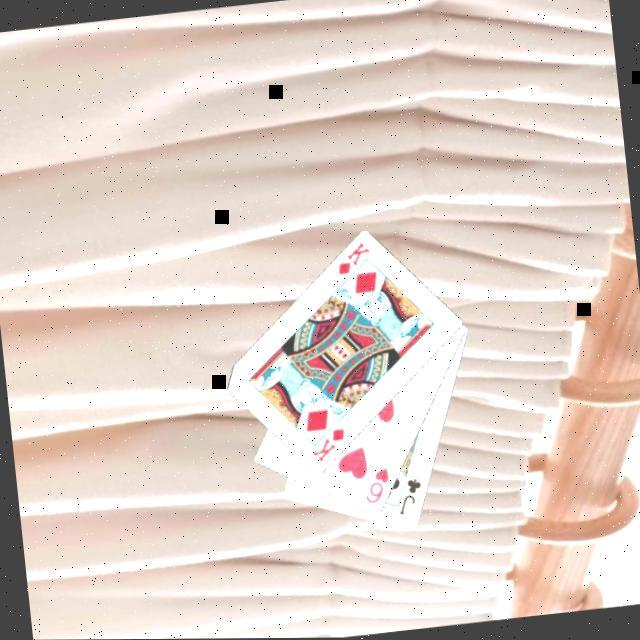6H: (360, 463, 396, 506)
JC: (393, 474, 428, 518)
KD: (307, 424, 352, 466), (332, 237, 376, 277)
